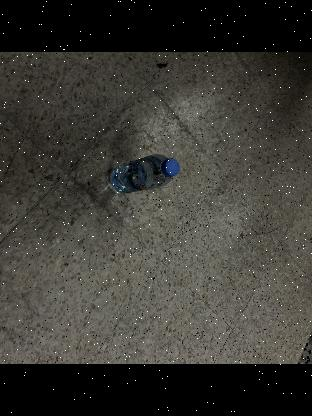Plastic Bottle: (106, 155, 178, 195)
